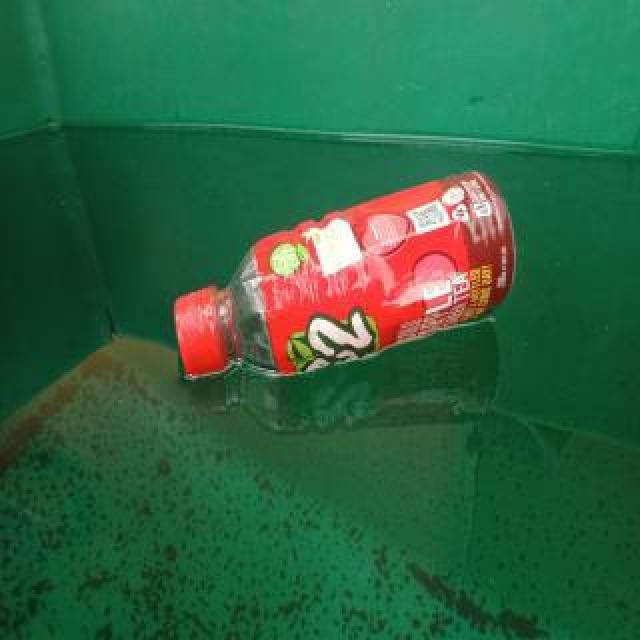bottle: (171, 168, 519, 382)
